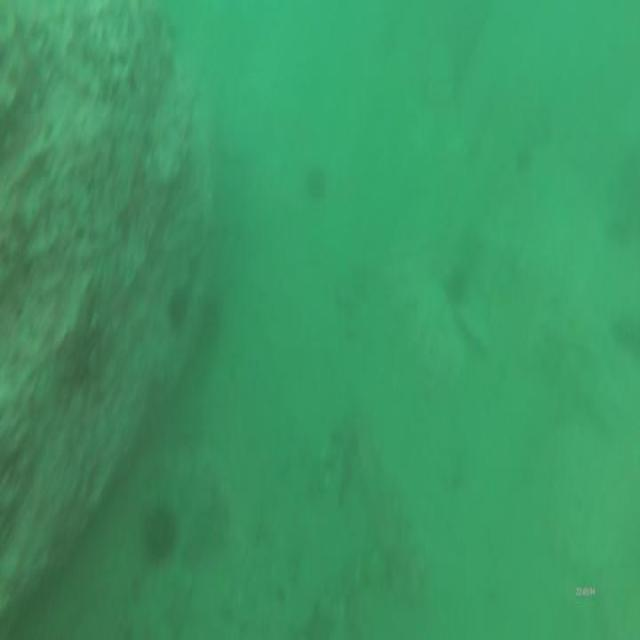echinus: (137, 492, 179, 570), (166, 280, 192, 336), (443, 258, 469, 310), (304, 160, 328, 206)
